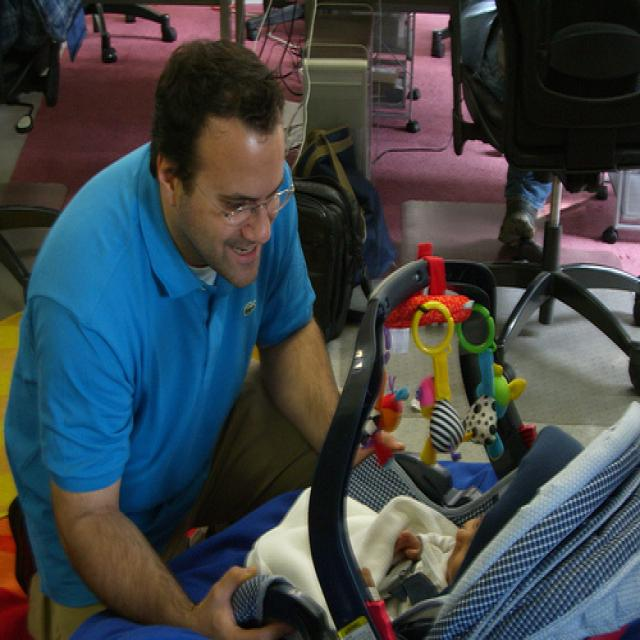chair: (450, 1, 640, 397)
person: (4, 35, 397, 639)
